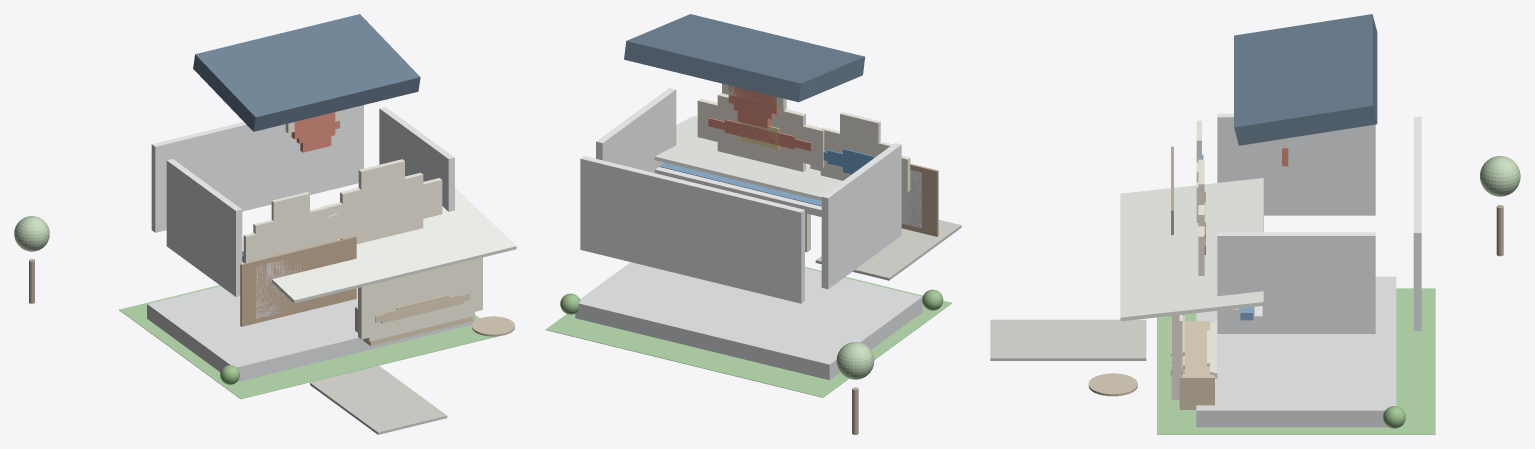
The model's file is BUILDING_BAKERY_SMALL_TOWN_001_LOD_MAP.glb.
3 views of the same model, side by side, from view 1: azimuth 30°, elevation 25°; view 2: azimuth 150°, elevation 25°; view 3: azimuth 270°, elevation 25° (orthographic). The views are drawn at different scales.
Parts seen in each view (by area): view 1: MOD_ROOF_GABLE_STANDARD_001.002, MOD_WALL_WEATHERBOARD_WHITE_001.008, MOD_FOUNDATION_STANDARD_RECT_001.002, MOD_WALL_WEATHERBOARD_WHITE_001.006, MOD_GROUND_GRASS_STANDARD_001_MAP_PATCH, MOD_WINDOW_RESIDENTIAL_LARGE_001_COASTAL_PANORAMIC_WINDOW_MA, MOD_PATH_STANDARD_001_MAP_SURFACE, MOD_AWNING_COASTAL_CAFE_001_CORNER_RETURN_AWNING_MAP_CANOPY, MOD_AWNING_COASTAL_CAFE_001_DEEP_SEATING_AWNING_MAP_CANOPY, MOD_WALL_WEATHERBOARD_WHITE_001.007, MOD_BAKERY_DISPLAY_WINDOW_001_CORNER_DISPLAY_FRONTAGE_MAP_FR, MOD_BAKERY_DISPLAY_WINDOW_001_DOUBLE_PANE_BAKERY_DISPLAY_WI. (+16 smaller); view 2: MOD_FOUNDATION_STANDARD_RECT_001.002, MOD_WALL_WEATHERBOARD_WHITE_001.008, MOD_ROOF_GABLE_STANDARD_001.002, MOD_WALL_WEATHERBOARD_WHITE_001.006, MOD_GROUND_GRASS_STANDARD_001_MAP_PATCH, MOD_WALL_WEATHERBOARD_WHITE_001.007, MOD_AWNING_COASTAL_CAFE_001_CORNER_RETURN_AWNING_MAP_CANOPY, MOD_BAKERY_SIGN_STANDARD_001_FASCIA_BAKERY_SIGN_MAP_PANEL, MOD_PATH_STANDARD_001_MAP_SURFACE, MOD_BAKERY_SIGN_STANDARD_001_COMPACT_CORNER_BAKERY_SIGN_MAP_ (×2), MOD_BAKERY_SIGN_STANDARD_001_HANGING_BAKERY_SIGN_MAP_PANEL, MOD_WINDOW_RESIDENTIAL_LARGE_001_COASTAL_PANORAMIC_WINDOW_MA (+14 smaller); view 3: MOD_FOUNDATION_STANDARD_RECT_001.002, MOD_ROOF_GABLE_STANDARD_001.002, MOD_WALL_WEATHERBOARD_WHITE_001.007, MOD_WALL_WEATHERBOARD_WHITE_001.006, MOD_GROUND_GRASS_STANDARD_001_MAP_PATCH, MOD_AWNING_COASTAL_CAFE_001_DEEP_SEATING_AWNING_MAP_CANOPY, MOD_AWNING_COASTAL_CAFE_001_CORNER_RETURN_AWNING_MAP_CANOPY, MOD_PATH_STANDARD_001_MAP_SURFACE, MOD_AWNING_COASTAL_CAFE_001_STRIPED_COASTAL_AWNING_MAP_CANOP, MOD_WALL_WEATHERBOARD_WHITE_001.008, MOD_TREE_EUCALYPTUS_STANDARD_001_MAP_CANOPY, MOD_BAKERY_COUNTER_FRONTAGE_001_STRAIGHT_BAKERY_COUNTER_MAP_ (+4 smaller).
Part boxes in pixels (left/top/right/bottom): MOD_ROOF_GABLE_STANDARD_001.002: left=193, top=14, right=420, bottom=131; MOD_WALL_WEATHERBOARD_WHITE_001.008: left=151, top=105, right=363, bottom=232; MOD_FOUNDATION_STANDARD_RECT_001.002: left=147, top=286, right=474, bottom=381; MOD_WALL_WEATHERBOARD_WHITE_001.006: left=166, top=159, right=242, bottom=296; MOD_GROUND_GRASS_STANDARD_001_MAP_PATCH: left=119, top=285, right=497, bottom=398; MOD_WINDOW_RESIDENTIAL_LARGE_001_COASTAL_PANORAMIC_WINDOW_MA: left=240, top=236, right=356, bottom=326; MOD_PATH_STANDARD_001_MAP_SURFACE: left=310, top=365, right=447, bottom=434; MOD_AWNING_COASTAL_CAFE_001_CORNER_RETURN_AWNING_MAP_CANOPY: left=242, top=214, right=480, bottom=294; MOD_AWNING_COASTAL_CAFE_001_DEEP_SEATING_AWNING_MAP_CANOPY: left=242, top=188, right=516, bottom=303; MOD_WALL_WEATHERBOARD_WHITE_001.007: left=379, top=107, right=454, bottom=211; MOD_BAKERY_DISPLAY_WINDOW_001_CORNER_DISPLAY_FRONTAGE_MAP_FR: left=366, top=269, right=474, bottom=341; MOD_BAKERY_DISPLAY_WINDOW_001_DOUBLE_PANE_BAKERY_DISPLAY_WI.: left=358, top=257, right=482, bottom=339; MOD_FOUNDATION_STANDARD_RECT_001.002: left=575, top=262, right=922, bottom=380; MOD_WALL_WEATHERBOARD_WHITE_001.008: left=580, top=156, right=804, bottom=303; MOD_ROOF_GABLE_STANDARD_001.002: left=624, top=14, right=864, bottom=102; MOD_WALL_WEATHERBOARD_WHITE_001.006: left=821, top=143, right=901, bottom=289; MOD_GROUND_GRASS_STANDARD_001_MAP_PATCH: left=545, top=267, right=951, bottom=397; MOD_WALL_WEATHERBOARD_WHITE_001.007: left=596, top=88, right=676, bottom=172; MOD_AWNING_COASTAL_CAFE_001_CORNER_RETURN_AWNING_MAP_CANOPY: left=660, top=120, right=842, bottom=193; MOD_BAKERY_SIGN_STANDARD_001_FASCIA_BAKERY_SIGN_MAP_PANEL: left=697, top=98, right=824, bottom=167; MOD_PATH_STANDARD_001_MAP_SURFACE: left=815, top=219, right=961, bottom=280; MOD_BAKERY_SIGN_STANDARD_001_COMPACT_CORNER_BAKERY_SIGN_MAP_ (×2): left=717, top=93, right=805, bottom=171; MOD_BAKERY_SIGN_STANDARD_001_HANGING_BAKERY_SIGN_MAP_PANEL: left=725, top=98, right=795, bottom=169; MOD_WINDOW_RESIDENTIAL_LARGE_001_COASTAL_PANORAMIC_WINDOW_MA: left=901, top=163, right=938, bottom=236; MOD_FOUNDATION_STANDARD_RECT_001.002: left=1196, top=276, right=1396, bottom=427; MOD_ROOF_GABLE_STANDARD_001.002: left=1234, top=14, right=1377, bottom=145; MOD_WALL_WEATHERBOARD_WHITE_001.007: left=1217, top=232, right=1375, bottom=333; MOD_WALL_WEATHERBOARD_WHITE_001.006: left=1217, top=113, right=1375, bottom=215; MOD_GROUND_GRASS_STANDARD_001_MAP_PATCH: left=1157, top=288, right=1435, bottom=434; MOD_AWNING_COASTAL_CAFE_001_DEEP_SEATING_AWNING_MAP_CANOPY: left=1120, top=178, right=1263, bottom=321; MOD_AWNING_COASTAL_CAFE_001_CORNER_RETURN_AWNING_MAP_CANOPY: left=1130, top=182, right=1253, bottom=312; MOD_PATH_STANDARD_001_MAP_SURFACE: left=990, top=319, right=1146, bottom=360; MOD_AWNING_COASTAL_CAFE_001_STRIPED_COASTAL_AWNING_MAP_CANOP: left=1135, top=190, right=1198, bottom=312; MOD_WALL_WEATHERBOARD_WHITE_001.008: left=1413, top=116, right=1421, bottom=331; MOD_TREE_EUCALYPTUS_STANDARD_001_MAP_CANOPY: left=1480, top=156, right=1520, bottom=196; MOD_BAKERY_COUNTER_FRONTAGE_001_STRAIGHT_BAKERY_COUNTER_MAP_: left=1183, top=322, right=1211, bottom=376.
Bounding box in the file's own units: 8.67 × 6.46 × 10.28.
